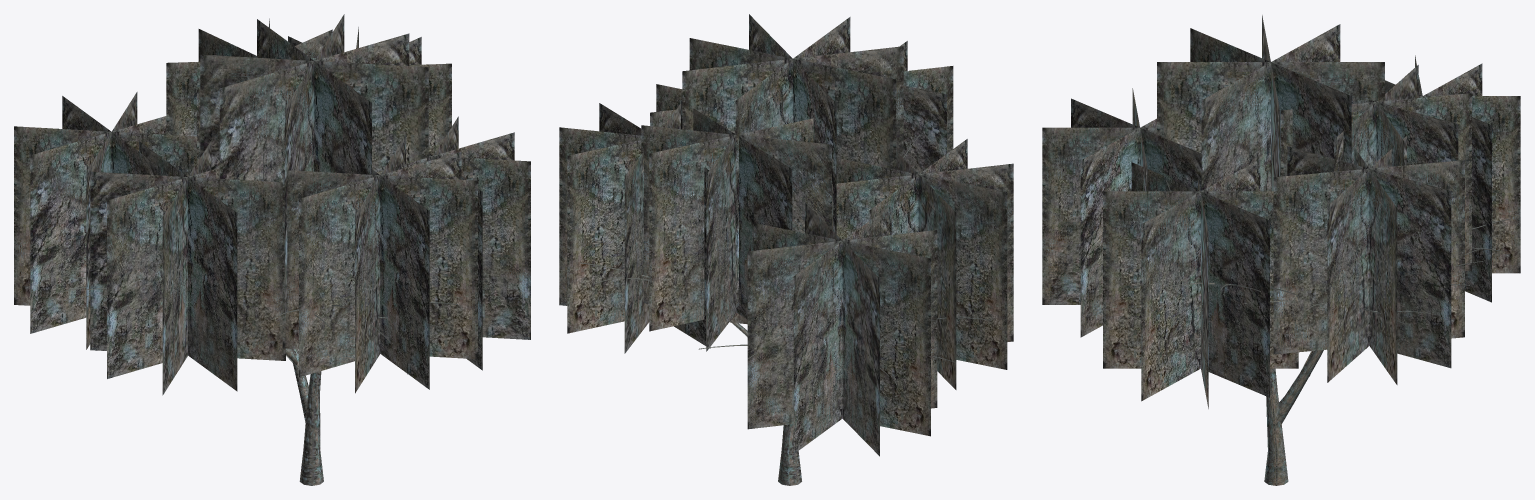
3 views of the same model, side by side, from view 1: azimuth 30°, elevation 25°; view 2: azimuth 150°, elevation 25°; view 3: azimuth 270°, elevation 25° (orthographic).
Parts seen in each view (by area): view 1: 2_Cluster8, 1_Trunk; view 2: 2_Cluster8, 1_Trunk; view 3: 2_Cluster8, 1_Trunk.
Boxes of the visible parts, <box> form: 2_Cluster8: <box>14,14,530,395</box>; 1_Trunk: <box>58,129,457,485</box>; 2_Cluster8: <box>559,14,1013,456</box>; 1_Trunk: <box>580,134,991,485</box>; 2_Cluster8: <box>1042,15,1520,408</box>; 1_Trunk: <box>1074,146,1510,485</box>.
Size of the model in its own units: 151 by 159 by 165.
Materials: 1 (1 with a texture image).
